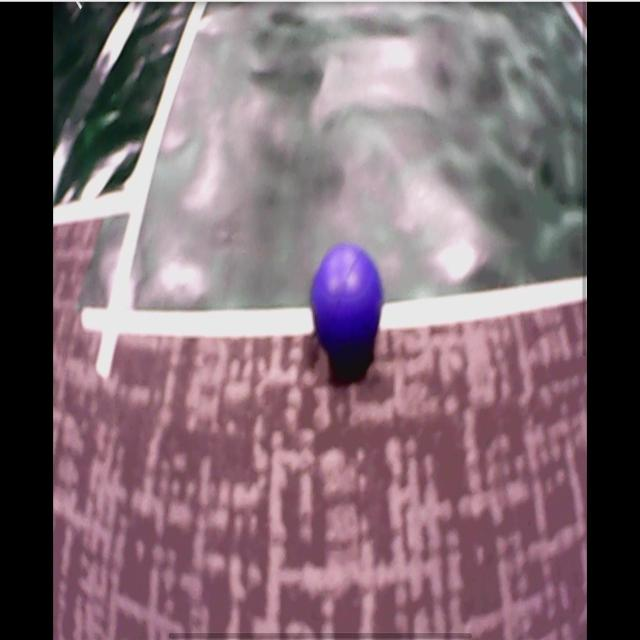ball: (312, 248, 384, 359)
